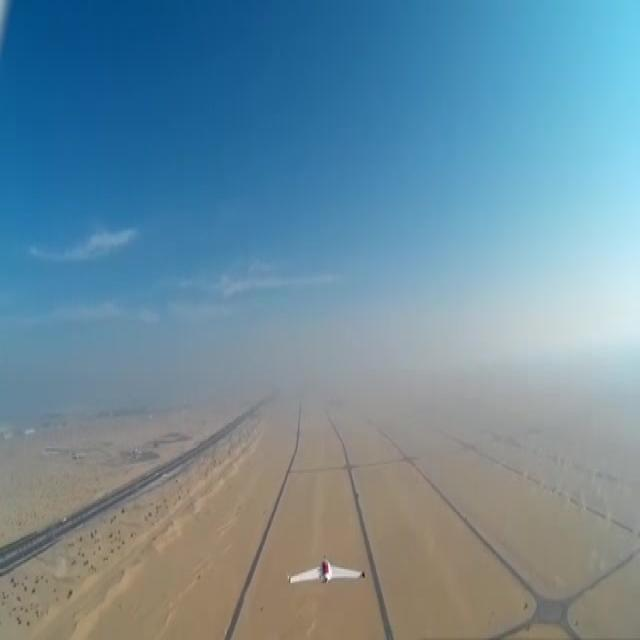iha: (314, 555, 326, 583)
